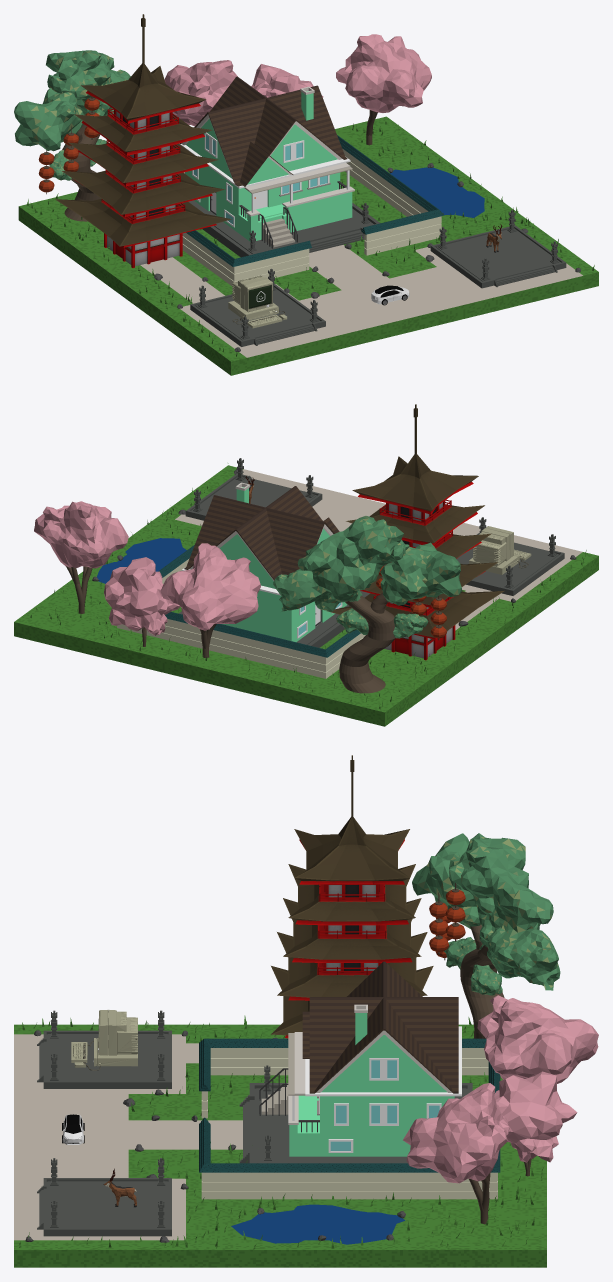
3 renders of one model, top to bottom at view 1: azimuth 30°, elevation 25°; view 2: azimuth 150°, elevation 25°; view 3: azimuth 270°, elevation 25°, orthographic. The views are drawn at different scales.
Visible parts, largest first — view 1: Cube.005, Cube.352, OBJRANDOM_RETRO_PC, VEHICLES_TESLA; view 2: Cube.005, Cube.352, OBJRANDOM_RETRO_PC; view 3: Cube.005, Cube.352, OBJRANDOM_RETRO_PC.
Boxes of the visible parts, bbox=[...] form: Cube.005: bbox=[14, 14, 598, 375]; Cube.352: bbox=[179, 76, 354, 248]; OBJRANDOM_RETRO_PC: bbox=[228, 275, 287, 328]; VEHICLES_TESLA: bbox=[371, 285, 409, 305]; Cube.005: bbox=[14, 404, 598, 726]; Cube.352: bbox=[181, 482, 347, 642]; OBJRANDOM_RETRO_PC: bbox=[469, 526, 531, 574]; Cube.005: bbox=[14, 755, 598, 1267]; Cube.352: bbox=[259, 961, 461, 1156]; OBJRANDOM_RETRO_PC: bbox=[71, 1010, 137, 1070].
Bounding box in the file's own units: 4528 × 2791 × 4389.
Materials: 40 (5 with a texture image).
